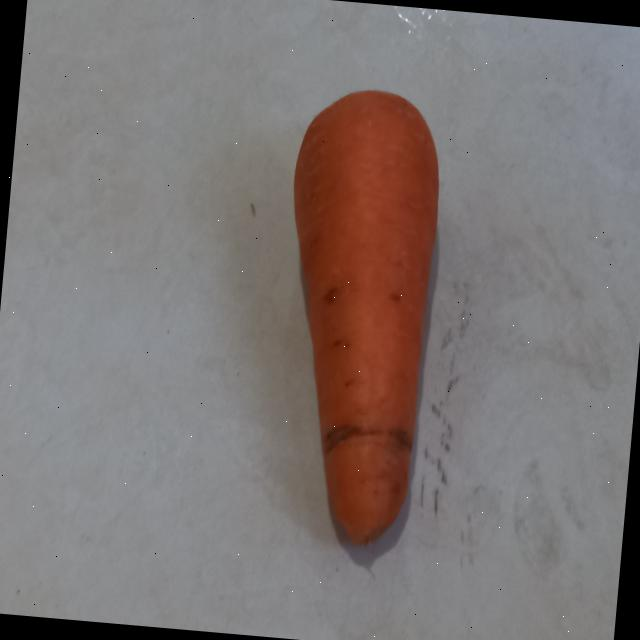carrot: (293, 90, 439, 545)
